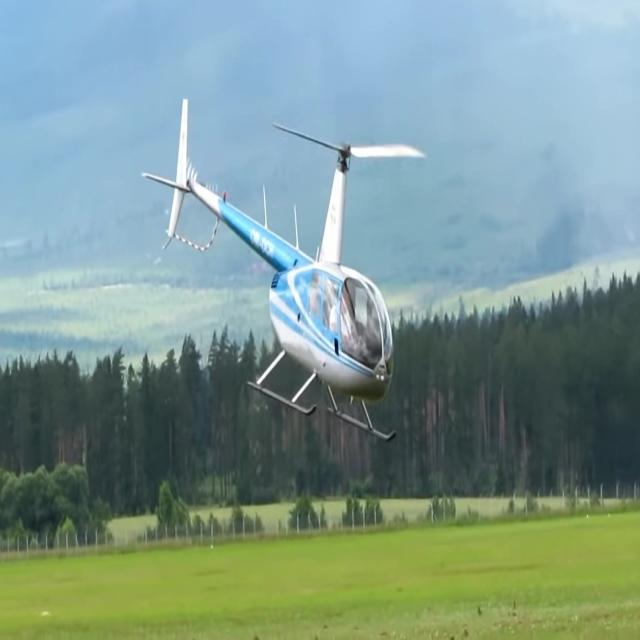CIV_HELO: (140, 95, 398, 444)
